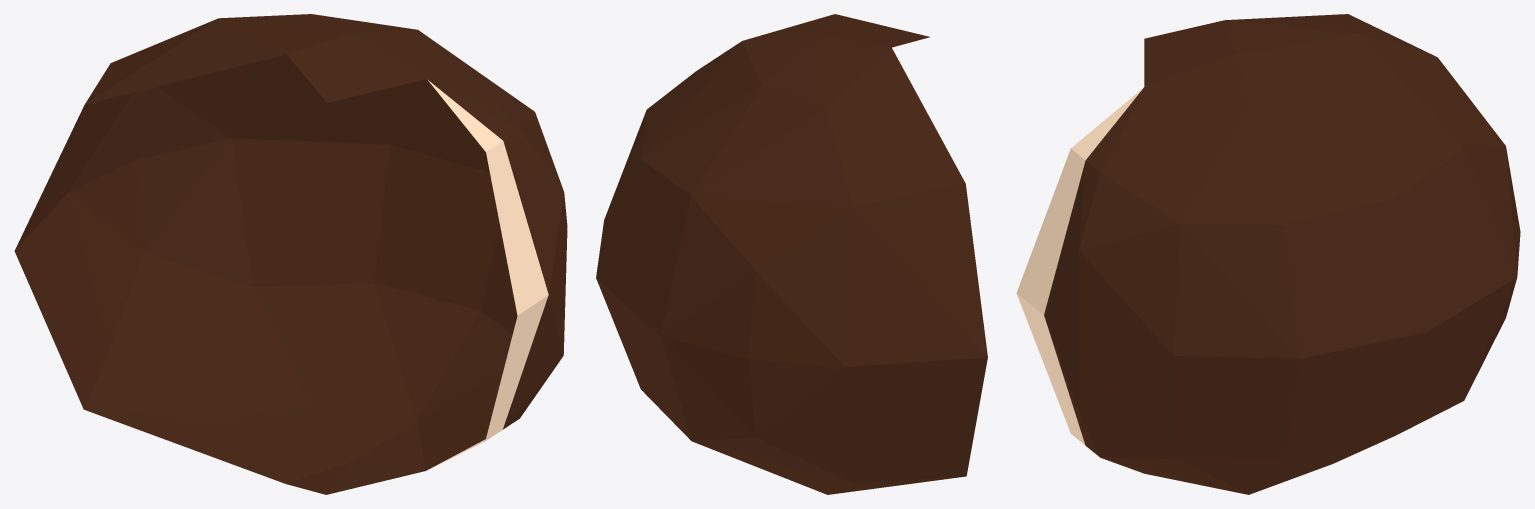
File: hair7.glb
3 renders of one model, left to right at view 1: azimuth 30°, elevation 25°; view 2: azimuth 150°, elevation 25°; view 3: azimuth 270°, elevation 25°, orthographic. The views are drawn at different scales.
Visible parts, largest first — view 1: tomodachi-2026-03-10-20-23-49-068, tomodachi-2026-03-10-20-23-49-068.008; view 2: tomodachi-2026-03-10-20-23-49-068; view 3: tomodachi-2026-03-10-20-23-49-068, tomodachi-2026-03-10-20-23-49-068.008.
Part boxes in pixels (box(x1,y1,x2,y2)): tomodachi-2026-03-10-20-23-49-068: box(14, 14, 567, 494); tomodachi-2026-03-10-20-23-49-068.008: box(428, 80, 548, 469); tomodachi-2026-03-10-20-23-49-068: box(596, 14, 987, 494); tomodachi-2026-03-10-20-23-49-068: box(1044, 14, 1520, 494); tomodachi-2026-03-10-20-23-49-068.008: box(1016, 87, 1143, 444).
Bounding box in the file's own units: 1.14 × 1.04 × 1.12.
2 materials, 2 textured.
